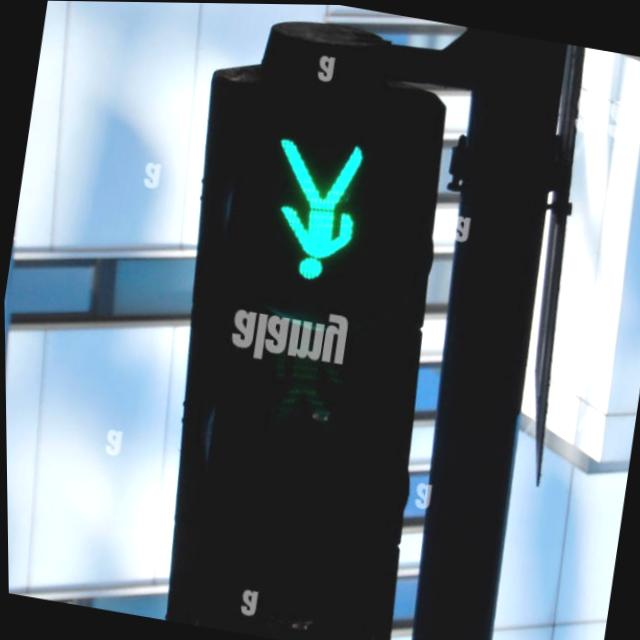green_light: (234, 112, 389, 307)
